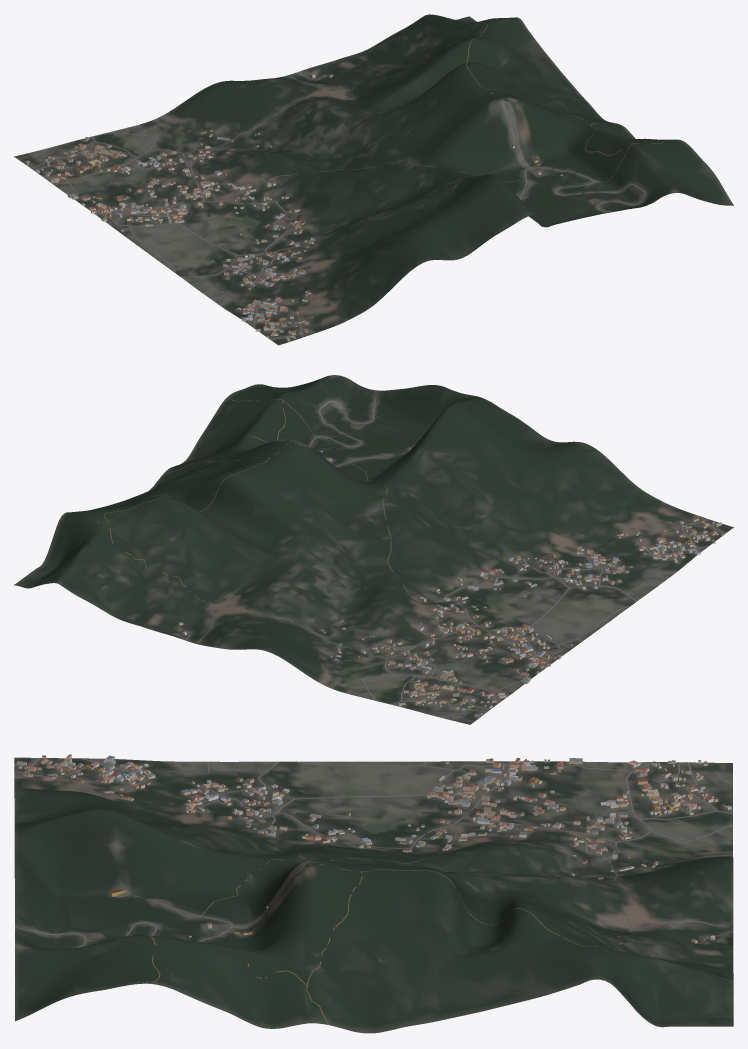
3 renders of one model, top to bottom at view 1: azimuth 30°, elevation 25°; view 2: azimuth 150°, elevation 25°; view 3: azimuth 270°, elevation 25°, orthographic. The views are drawn at different scales.
Visible parts, largest first — view 1: ground, buildings, roads; view 2: ground, buildings, roads; view 3: ground, buildings, roads.
Boxes of the visible parts, x1=… form: ground: x1=14, y1=14, x2=733, y2=345; buildings: x1=24, y1=74, x2=562, y2=341; roads: x1=30, y1=24, x2=683, y2=338; ground: x1=14, y1=375, x2=733, y2=724; buildings: x1=178, y1=444, x2=724, y2=717; roads: x1=104, y1=396, x2=722, y2=712; ground: x1=14, y1=757, x2=733, y2=1033; buildings: x1=16, y1=754, x2=731, y2=943; roads: x1=14, y1=758, x2=733, y2=1024.
Bounding box in the file's own units: 1405 × 267 × 1405.
